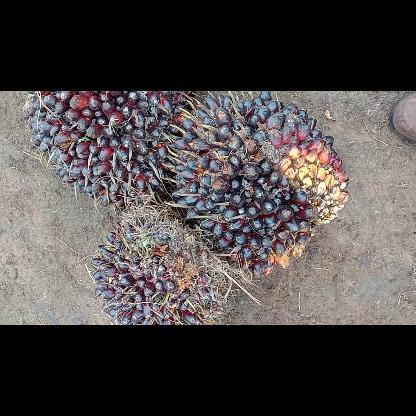TBS mentah: (163, 91, 353, 277), (19, 90, 212, 212), (88, 206, 235, 324)
